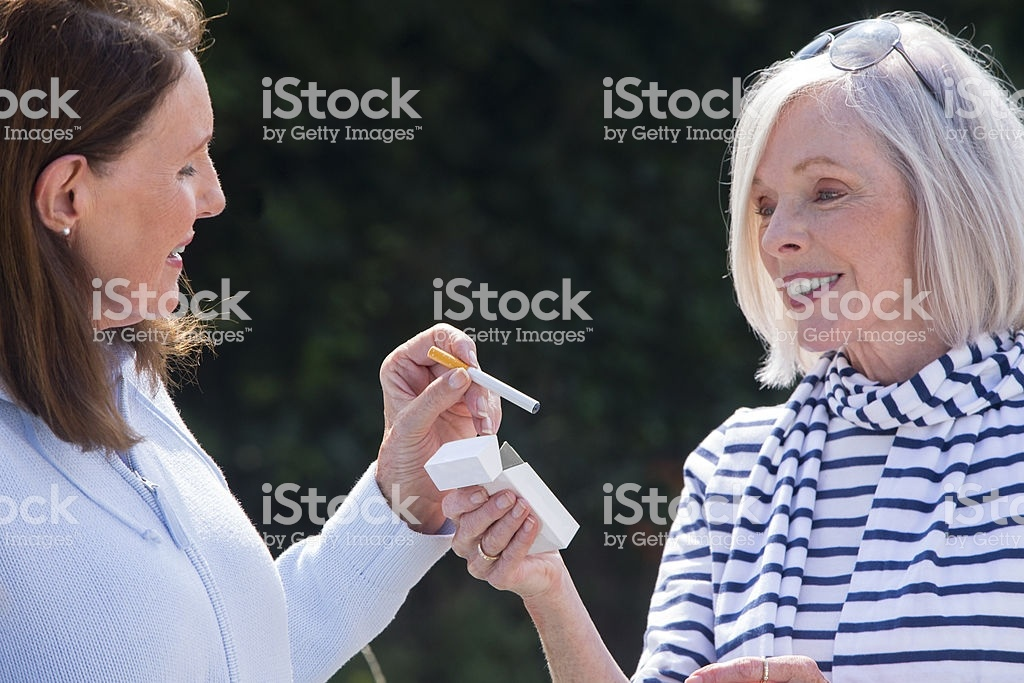sigaretta: (423, 343, 545, 414)
